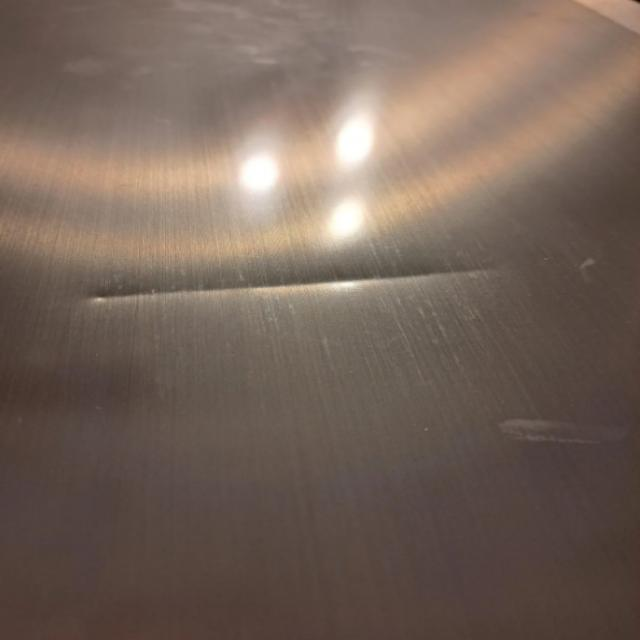dents: (36, 260, 498, 304)
